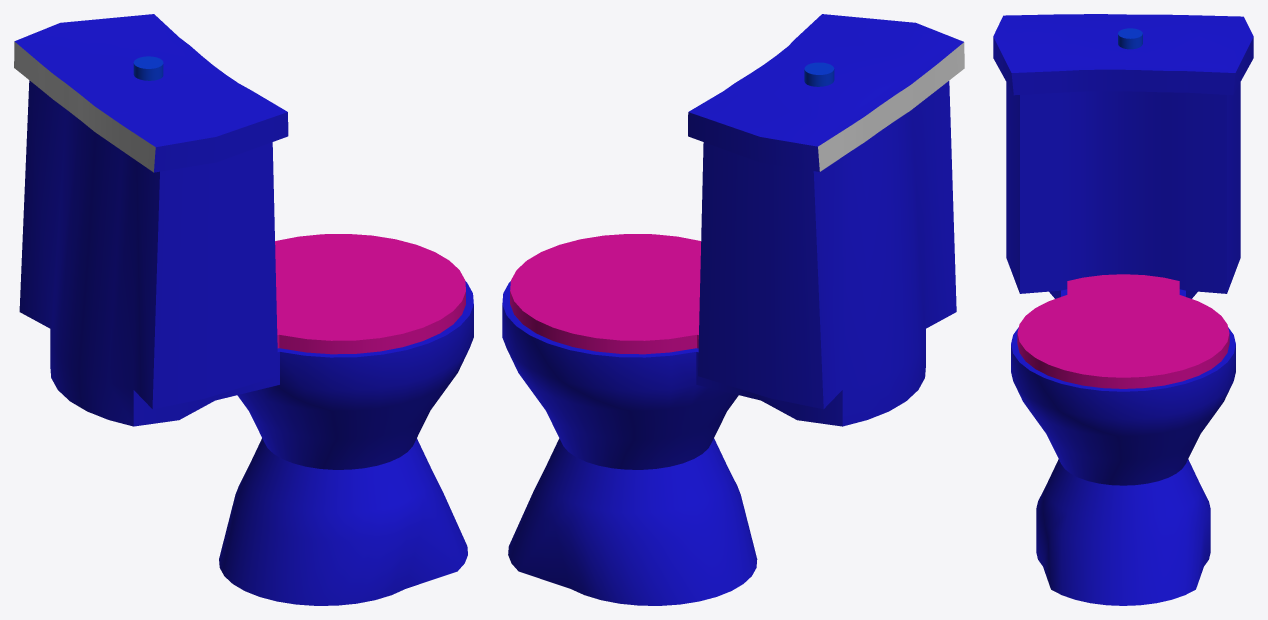
The model's file is Kibel.fbx.
3 renders of one model, left to right at view 1: azimuth 30°, elevation 25°; view 2: azimuth 150°, elevation 25°; view 3: azimuth 270°, elevation 25°, orthographic. The views are drawn at different scales.
Visible parts, largest first — view 1: Cylinder; view 2: Cylinder; view 3: Cylinder.
Boxes of the visible parts, x1,y1,x2,y2 form: Cylinder: [14, 14, 473, 605]; Cylinder: [502, 14, 964, 605]; Cylinder: [993, 14, 1253, 605].
Bounding box in the file's own units: 376 × 500 × 263.
